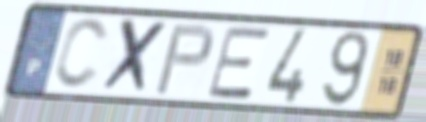4: (263, 26, 310, 107)
9: (318, 29, 372, 110)
C: (51, 16, 111, 93)
E: (205, 26, 272, 102)
P: (151, 22, 217, 98)
X: (96, 16, 172, 98)
